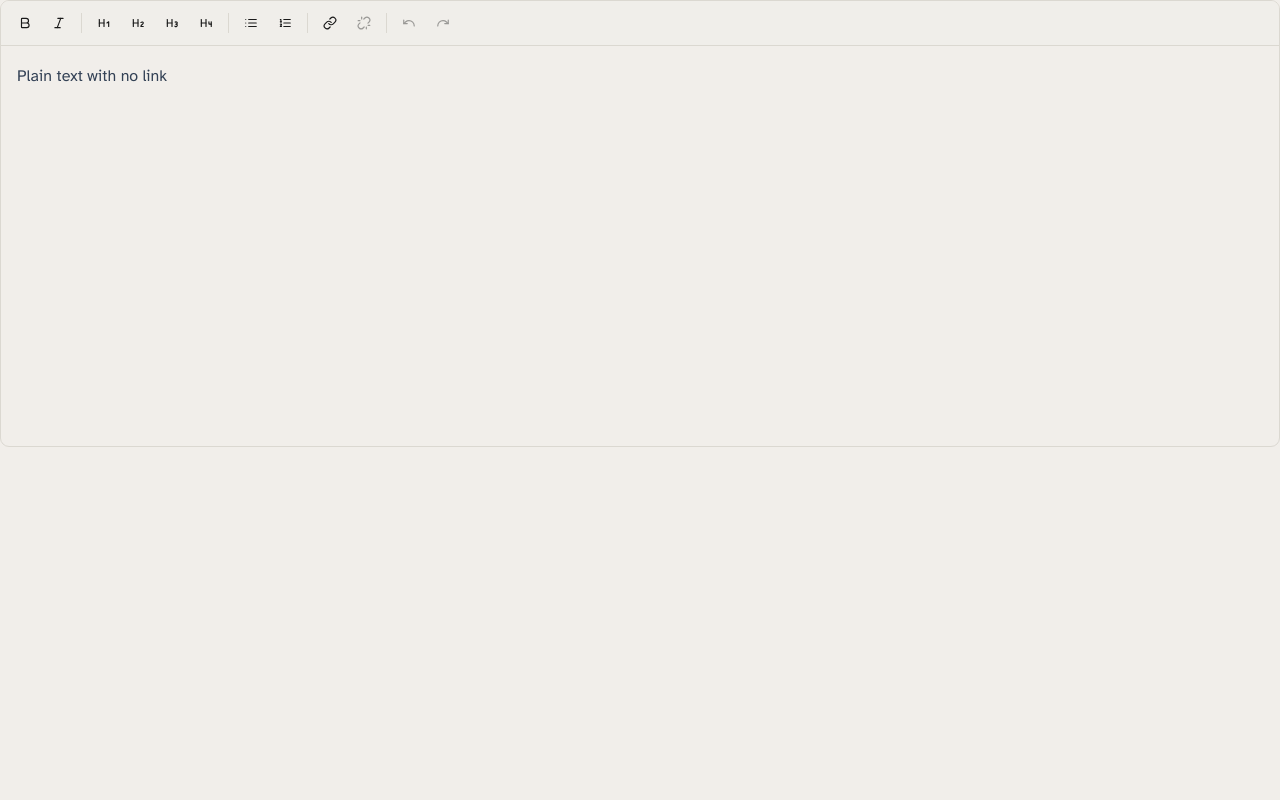
Test: RichTextEditor — link popover Remove link button › Remove link button is NOT present in popover when cursor is outside a link
Expected: the element with test id "rich-text-editor" is shown, x1=0 y1=0 x2=1279 y2=447
Click the button with test id "rte-toolbar-add-link".
click(330, 23)  # box x1=314 y1=7 x2=346 y2=39
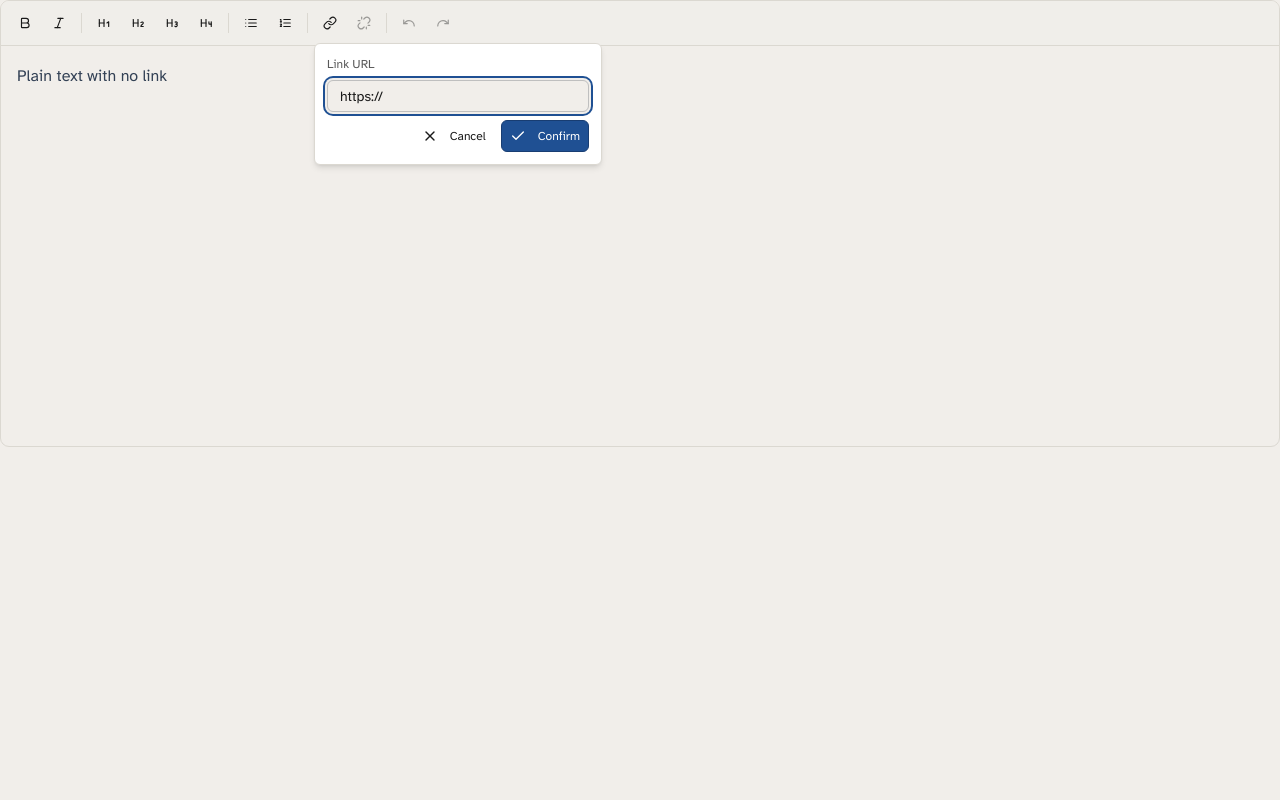
Now the button with test id "rte-link-cancel" is shown, box x1=413 y1=120 x2=495 y2=152
